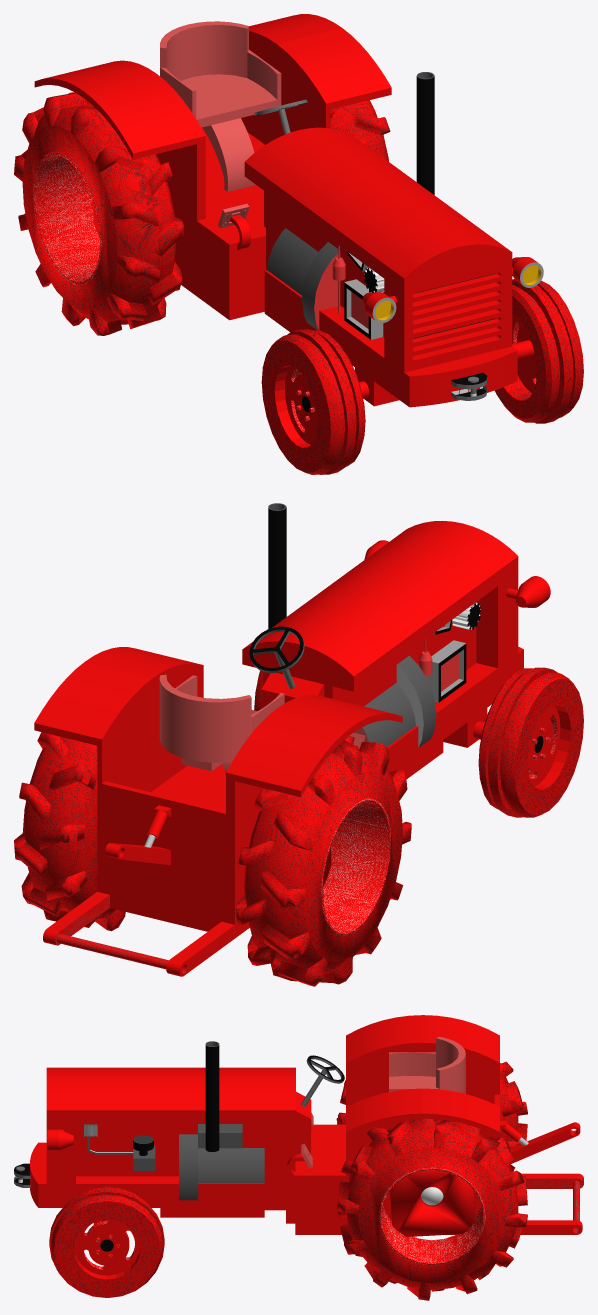
File: groundAnchor.dae
The picture shows the model from 3 angles, top to bottom: view 1: azimuth 30°, elevation 25°; view 2: azimuth 150°, elevation 25°; view 3: azimuth 270°, elevation 25°; orthographic projection. The views are drawn at different scales.
Visible parts, largest first — view 1: Model; view 2: Model; view 3: Model.
Part boxes in pixels (<box>): Model: <box>14,14,583,474</box>; Model: <box>14,503,583,986</box>; Model: <box>14,1015,583,1300</box>.
Bounding box in the file's own units: 194 × 440 × 202.
